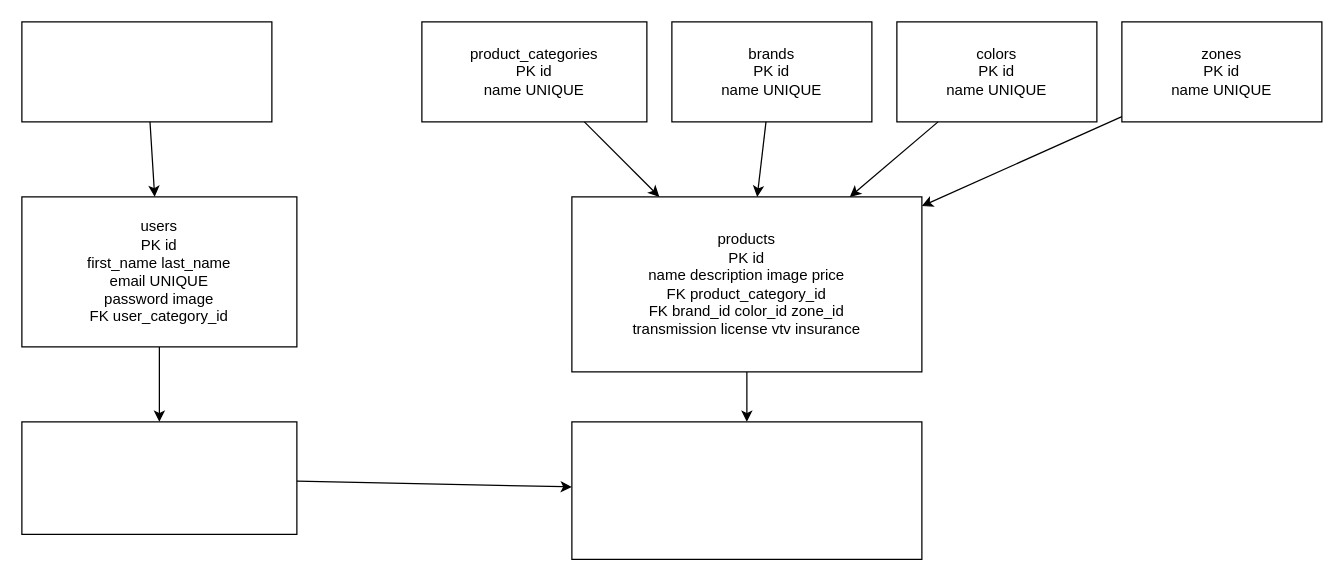
Image size: 1344x581. Some labels were removed from this diagram. The shapes that lost their labels are listed below. From the top down, each one's centre as x and y in pixels, then its label:
At point 146,71: "user_categories PK id name UNIQUE".
At point 159,477: "carts PK id FK user_id total status".
At point 746,490: "cart_items PK id FK cart_id FK product_id quantity unit_price subtotal".
